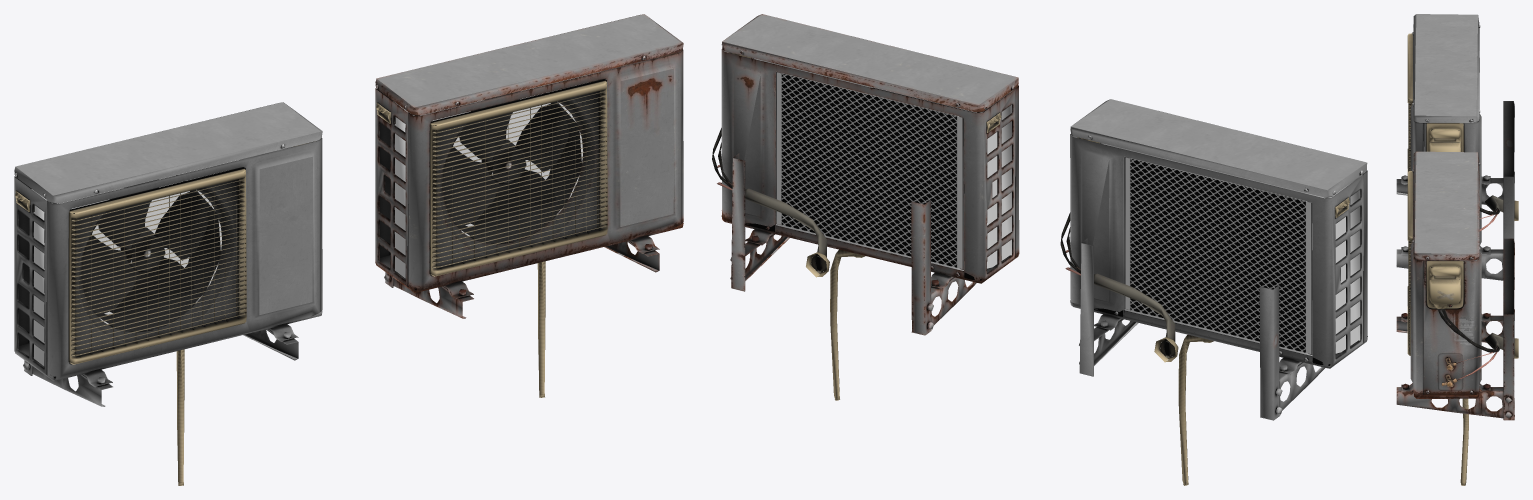
Rendered from exterior_aircon_unit.glb.
3 views of the same model, side by side, from view 1: azimuth 30°, elevation 25°; view 2: azimuth 150°, elevation 25°; view 3: azimuth 270°, elevation 25° (orthographic). The views are drawn at different scales.
Parts seen in each view (by area): view 1: exterior_aircon_unit; view 2: exterior_aircon_unit; view 3: exterior_aircon_unit.
Part boxes in pixels (left/top/right/bottom): exterior_aircon_unit: left=14, top=14, right=683, bottom=485; exterior_aircon_unit: left=712, top=14, right=1367, bottom=485; exterior_aircon_unit: left=1396, top=14, right=1518, bottom=485.
Size of the model in its own units: 6.43 by 3.31 by 1.34.
Materials: 4 (4 with a texture image).
